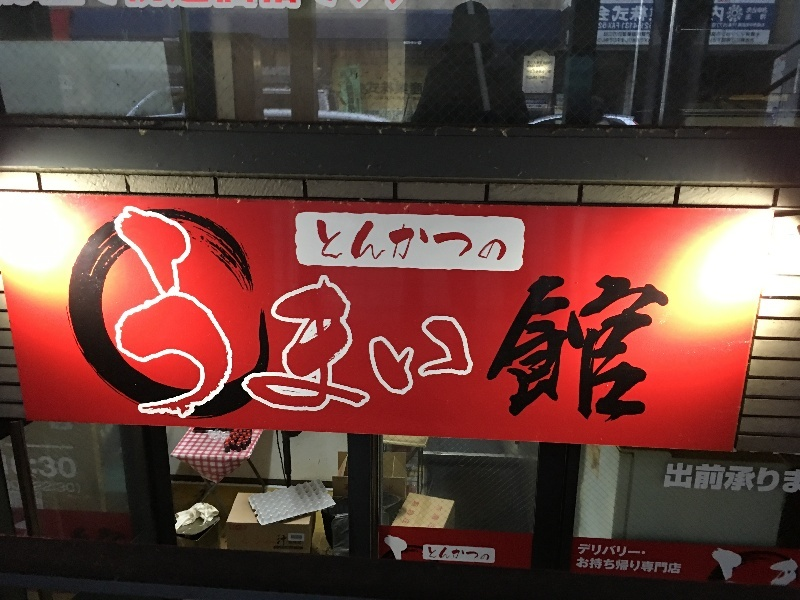text: (657, 205, 673, 440), (113, 205, 128, 440), (129, 205, 144, 440), (145, 205, 160, 440), (161, 205, 176, 440), (177, 205, 192, 440), (193, 205, 208, 440), (209, 205, 224, 440), (225, 205, 240, 440), (241, 205, 256, 440), (257, 205, 272, 440), (273, 205, 288, 440), (289, 205, 304, 440), (305, 205, 320, 440), (321, 205, 336, 440), (337, 205, 352, 440), (353, 205, 368, 440), (369, 205, 384, 440), (385, 205, 400, 440), (401, 205, 416, 440), (417, 205, 432, 440), (433, 205, 448, 440), (449, 205, 464, 440), (465, 205, 480, 440), (481, 205, 496, 440), (497, 205, 512, 440), (513, 205, 528, 440), (529, 205, 544, 440), (545, 205, 560, 440), (561, 205, 576, 440), (577, 205, 592, 440), (593, 205, 608, 440), (609, 205, 624, 440), (625, 205, 640, 440), (641, 205, 656, 440), (101, 205, 112, 440), (321, 217, 336, 264), (337, 217, 352, 264), (353, 217, 368, 264), (369, 217, 384, 264), (385, 217, 400, 264), (401, 217, 416, 264), (417, 217, 432, 264), (433, 217, 448, 264), (449, 217, 464, 264), (465, 217, 480, 264), (481, 217, 496, 264), (497, 217, 509, 264), (673, 462, 688, 495), (689, 462, 704, 495), (705, 462, 720, 495), (721, 462, 736, 495), (737, 462, 752, 495), (753, 462, 768, 495), (769, 462, 784, 495), (785, 462, 800, 495), (401, 500, 416, 526), (33, 456, 48, 479), (49, 456, 64, 479), (435, 503, 448, 528), (65, 456, 79, 479), (577, 556, 592, 575), (593, 556, 608, 575), (609, 556, 624, 575), (625, 556, 640, 575), (641, 556, 656, 575), (657, 556, 672, 575), (609, 5, 624, 24), (625, 5, 640, 24), (625, 543, 641, 559), (369, 80, 384, 97), (385, 80, 400, 97), (401, 80, 416, 97), (345, 78, 352, 114), (641, 5, 654, 24), (593, 543, 608, 559), (609, 543, 624, 559), (433, 546, 448, 562), (449, 546, 464, 562), (465, 546, 480, 562), (315, 217, 320, 264), (5, 455, 16, 476), (578, 543, 592, 559), (33, 481, 48, 494), (49, 481, 64, 494), (65, 481, 80, 494), (1, 1, 16, 13), (17, 1, 32, 13), (33, 1, 48, 13), (49, 1, 64, 13), (65, 1, 80, 13), (81, 1, 96, 13), (97, 1, 112, 13), (113, 1, 128, 13), (129, 1, 144, 13), (145, 1, 160, 13), (161, 1, 176, 13), (177, 1, 192, 13), (193, 1, 208, 13), (209, 1, 224, 13), (225, 1, 240, 13), (241, 1, 256, 13), (257, 1, 272, 13), (273, 1, 288, 13), (289, 1, 304, 13), (305, 1, 320, 13), (321, 1, 336, 13), (337, 1, 352, 13), (353, 1, 368, 13), (369, 1, 384, 13), (385, 1, 400, 13), (673, 556, 682, 575), (339, 67, 352, 80), (667, 462, 672, 495), (481, 546, 491, 562), (417, 80, 426, 97), (600, 5, 608, 24), (753, 6, 769, 15), (353, 78, 357, 114), (277, 534, 288, 547), (753, 13, 768, 22), (713, 4, 720, 23), (10, 456, 16, 477), (6, 480, 16, 492), (609, 22, 624, 30), (625, 22, 640, 30), (721, 22, 736, 30), (737, 22, 752, 30), (385, 485, 400, 493), (753, 22, 767, 30), (609, 31, 624, 38), (625, 31, 640, 38), (609, 38, 624, 45), (625, 38, 640, 45), (721, 31, 736, 38), (737, 31, 752, 38), (721, 37, 736, 44), (737, 37, 752, 44), (529, 60, 544, 67), (417, 500, 421, 526), (402, 40, 416, 47), (401, 1, 409, 13), (721, 4, 726, 23), (529, 75, 544, 81), (641, 22, 652, 30), (598, 22, 608, 30), (710, 22, 720, 30), (353, 67, 359, 80), (597, 38, 608, 45), (709, 37, 720, 44), (529, 70, 544, 75), (641, 31, 651, 38), (641, 38, 651, 45), (710, 31, 720, 38), (529, 64, 543, 69), (29, 456, 32, 479), (364, 80, 368, 97), (428, 546, 432, 562), (745, 6, 752, 15), (753, 31, 761, 38), (545, 60, 553, 67), (746, 13, 752, 22), (534, 53, 544, 58), (417, 40, 423, 47), (545, 75, 552, 81), (17, 480, 20, 492), (545, 70, 551, 75), (604, 31, 608, 38), (17, 456, 18, 477), (753, 37, 756, 44), (526, 60, 528, 67), (81, 481, 82, 494), (526, 75, 528, 81), (526, 64, 528, 69), (526, 70, 528, 75)
